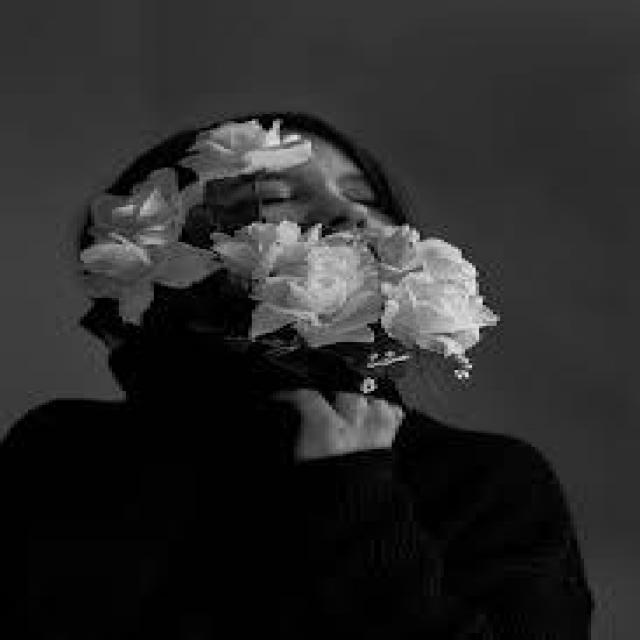organic waste: (369, 211, 505, 371), (235, 227, 382, 334), (190, 110, 310, 180), (66, 232, 168, 313), (100, 169, 212, 241)
